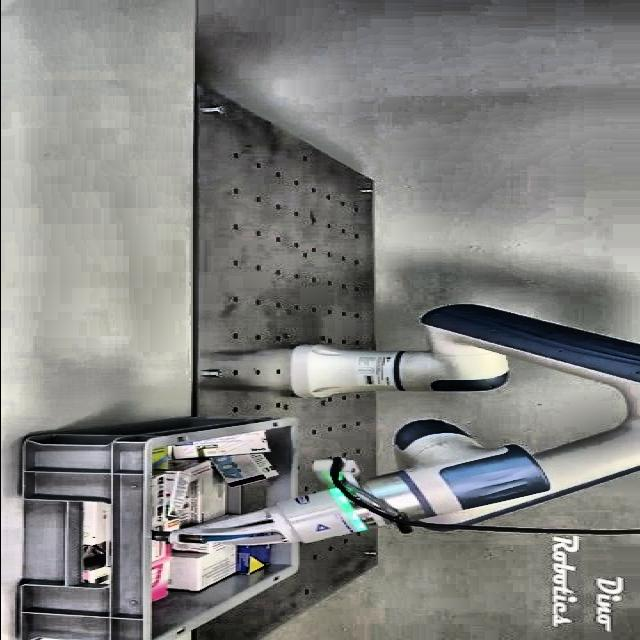robot: (153, 303, 640, 549)
